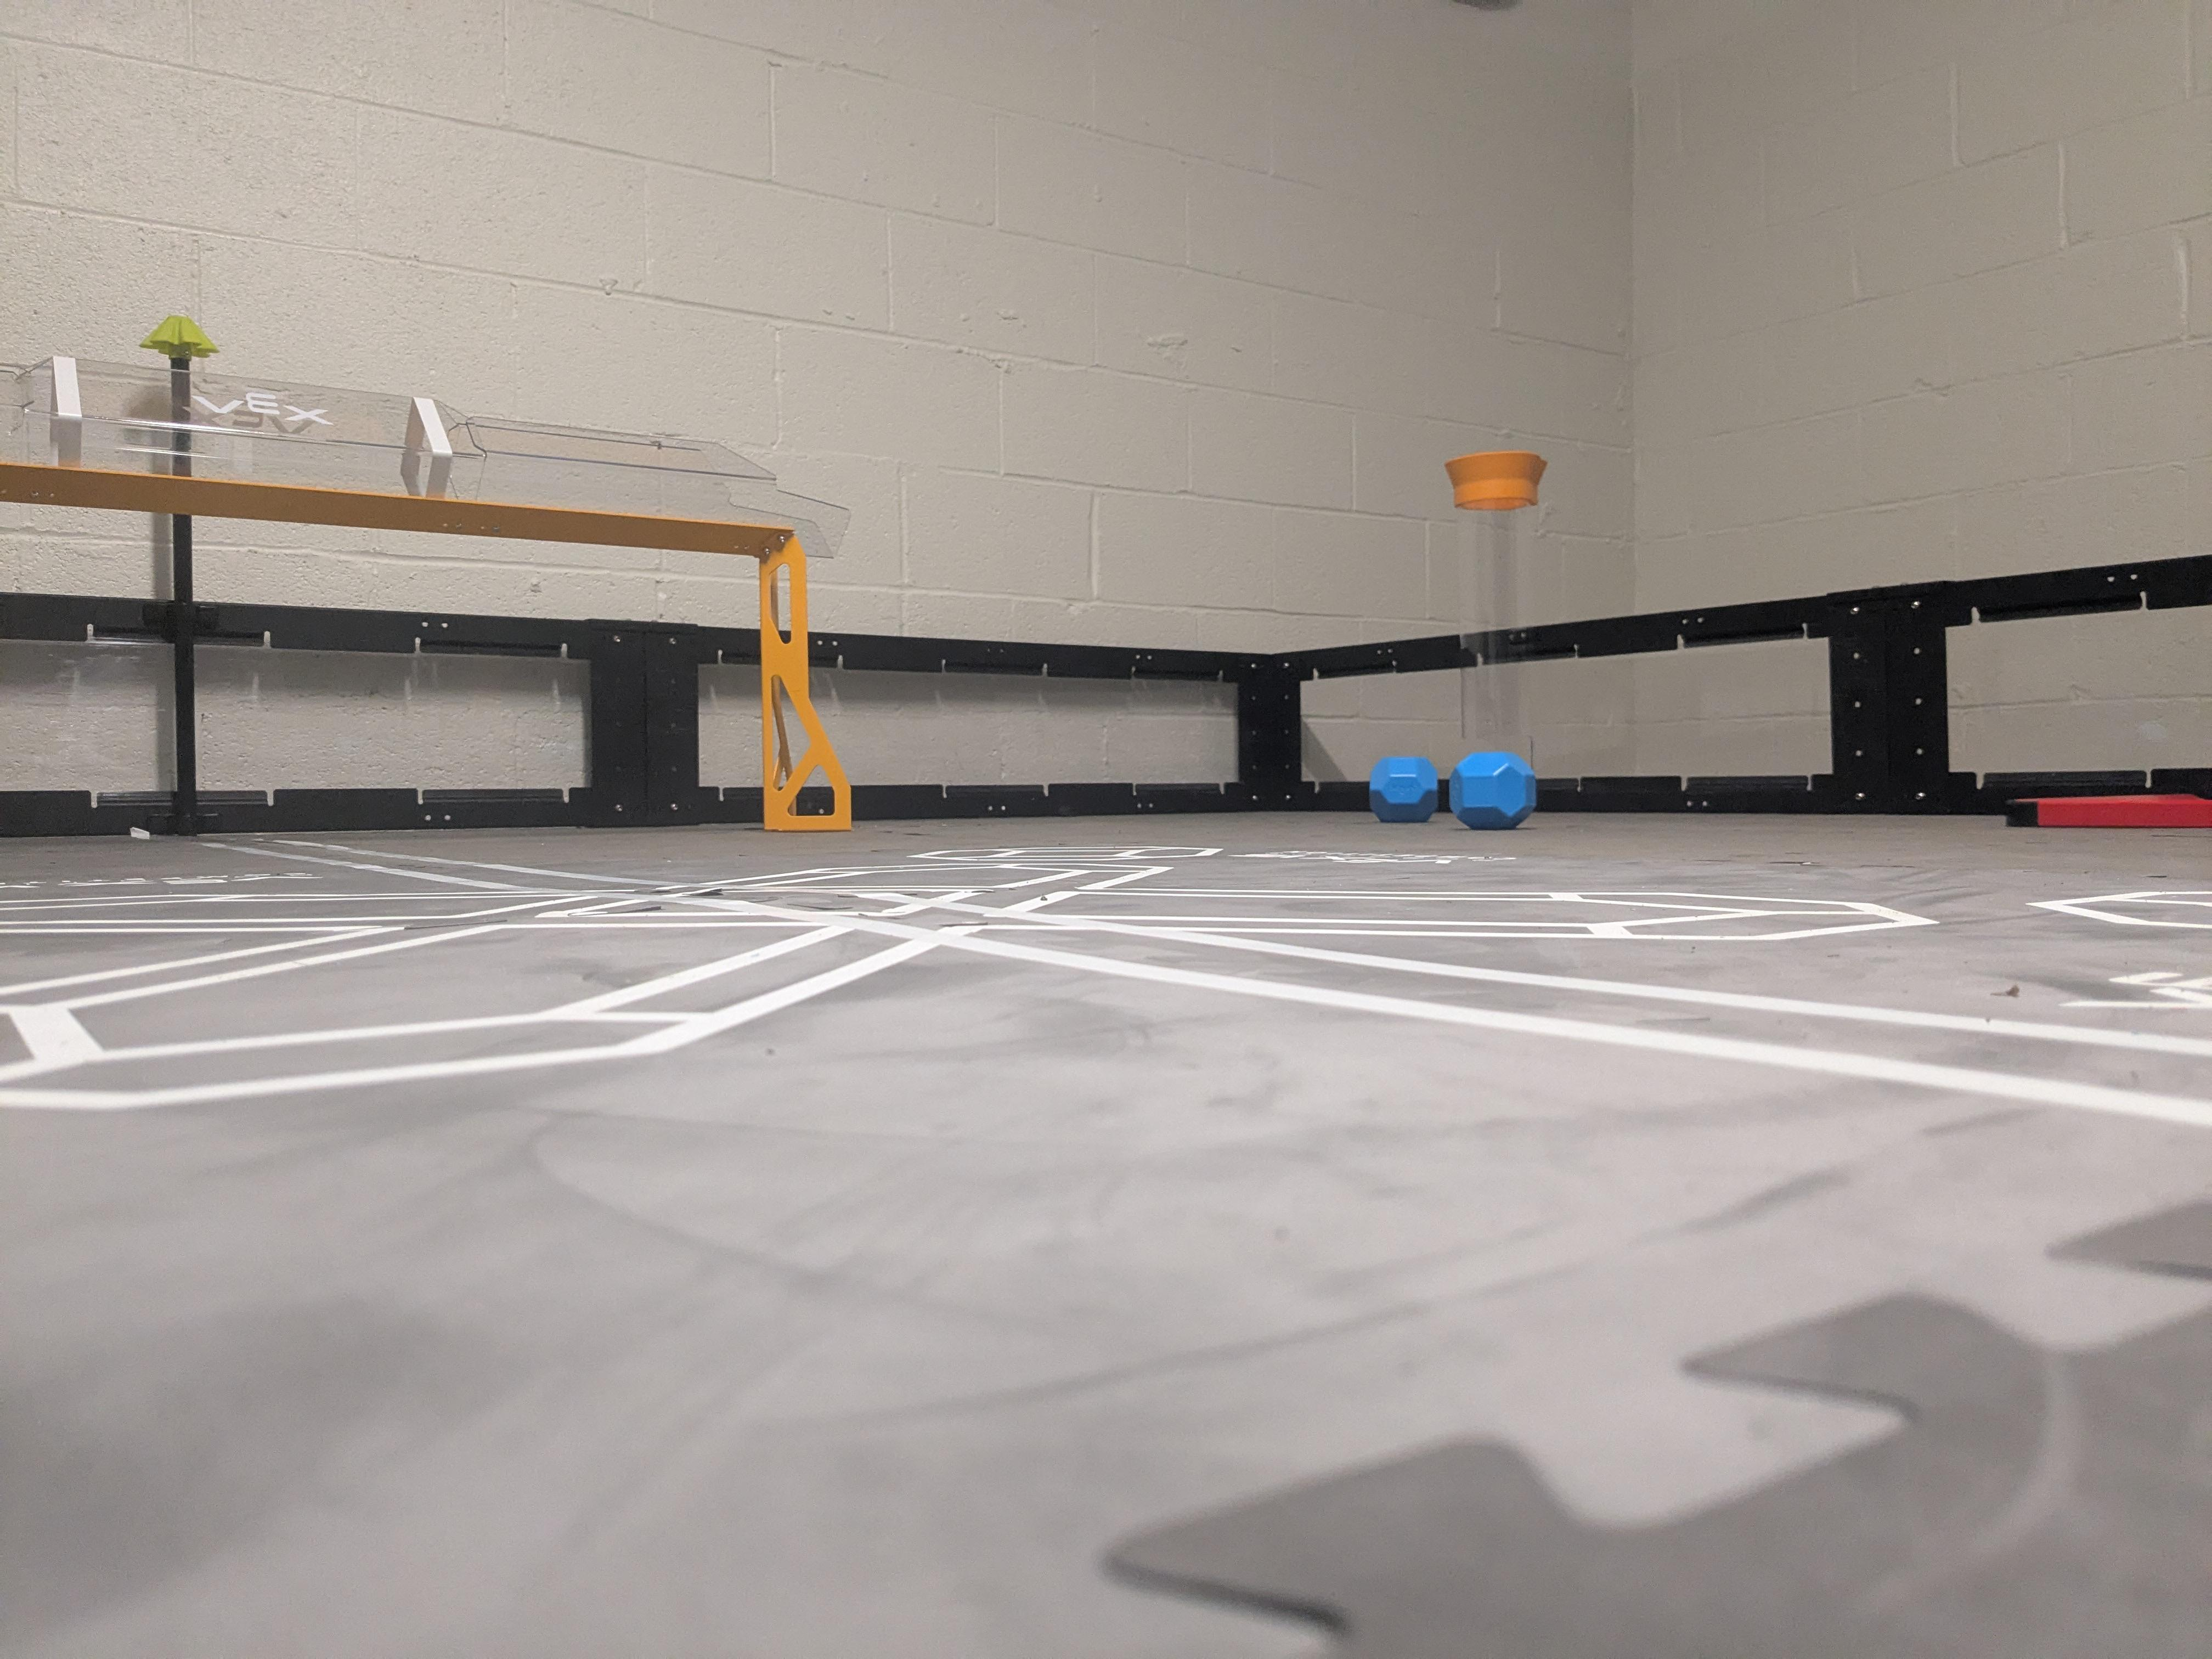Vex-Pieces-BLUE: (1447, 755, 1529, 826), (1369, 756, 1437, 823)
